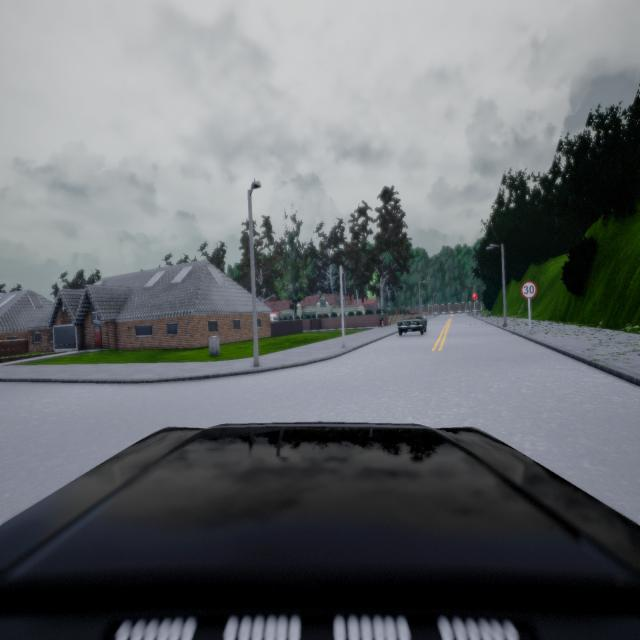Speed Limit -30-: (521, 280, 537, 298)
